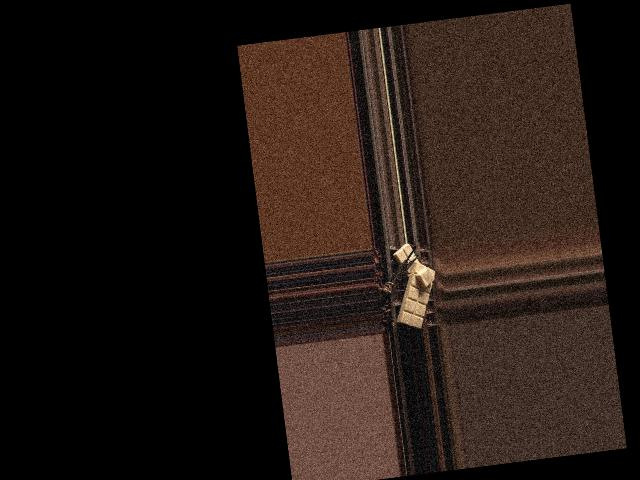chocolate: (390, 257, 441, 330)
